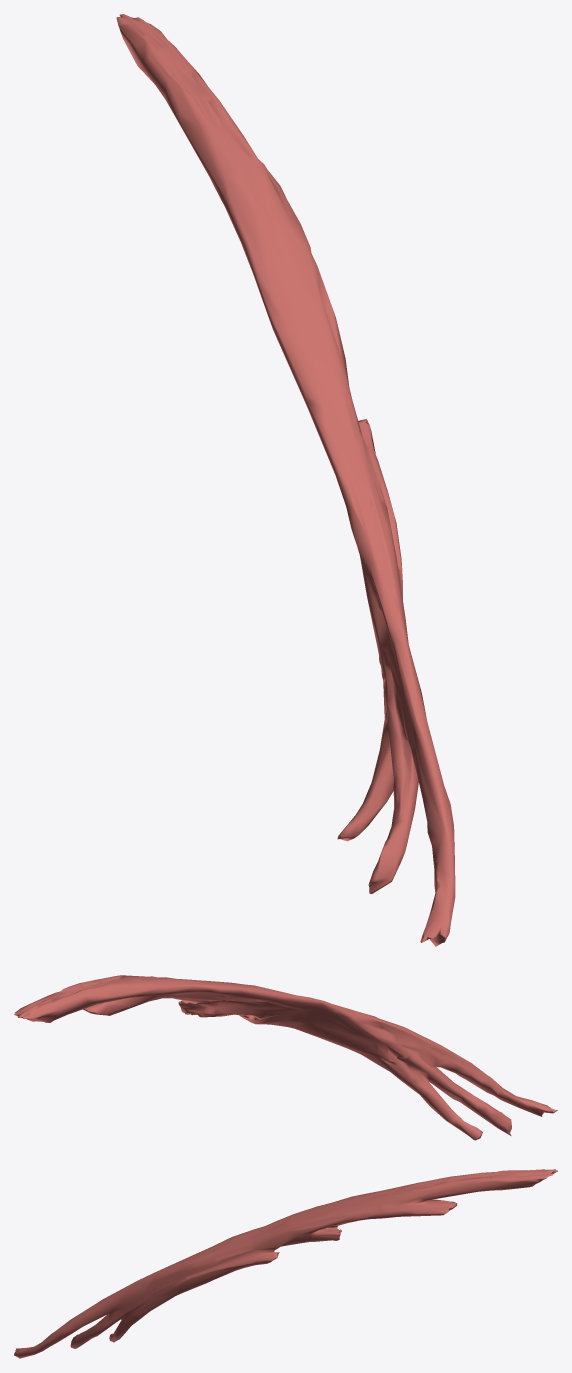
The picture shows the model from 3 angles, top to bottom: view 1: azimuth 30°, elevation 25°; view 2: azimuth 150°, elevation 25°; view 3: azimuth 270°, elevation 25°; orthographic projection. The views are drawn at different scales.
Visible parts, largest first — view 1: 颈髂肋肌; view 2: 颈髂肋肌; view 3: 颈髂肋肌.
Boxes of the visible parts, left/top/right/bottom form: 颈髂肋肌: left=116, top=14, right=455, bottom=946; 颈髂肋肌: left=14, top=975, right=557, bottom=1140; 颈髂肋肌: left=14, top=1169, right=557, bottom=1358.
Bounding box in the file's own units: 0.0743 × 0.1281 × 0.2599.
